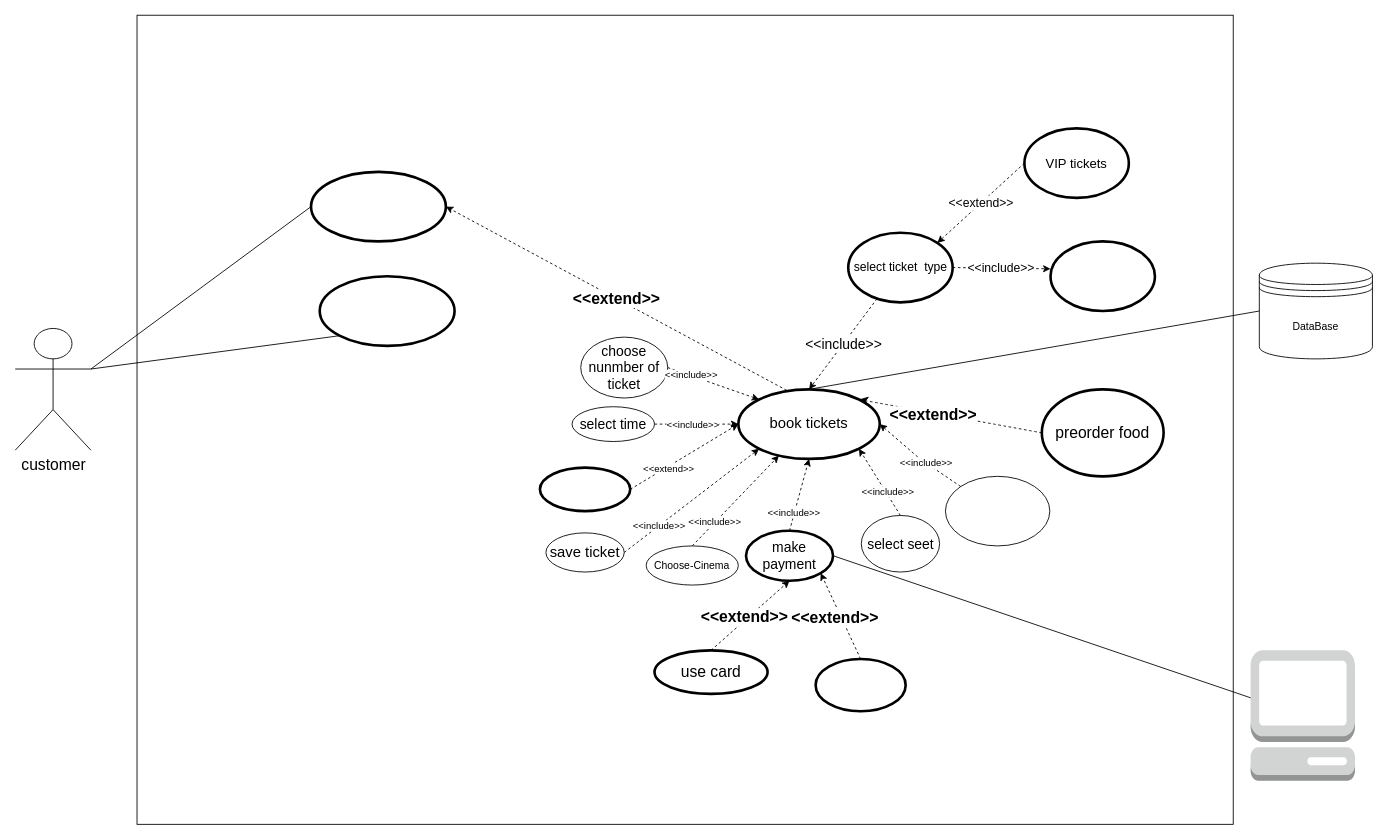
Image size: 1388x840. Some labels were removed from this diagram. The shapes that lost their labels are listed below. From the top down, each one's centre as x and y in pixels, then its label:
pixel 378 206: login
pixel 1102 276: NORMAL tickets
pixel 386 310: logout
pixel 584 489: cancel ticket
pixel 997 510: select movie
pixel 860 684: paypal wallet
pixel 1302 715: banking system
